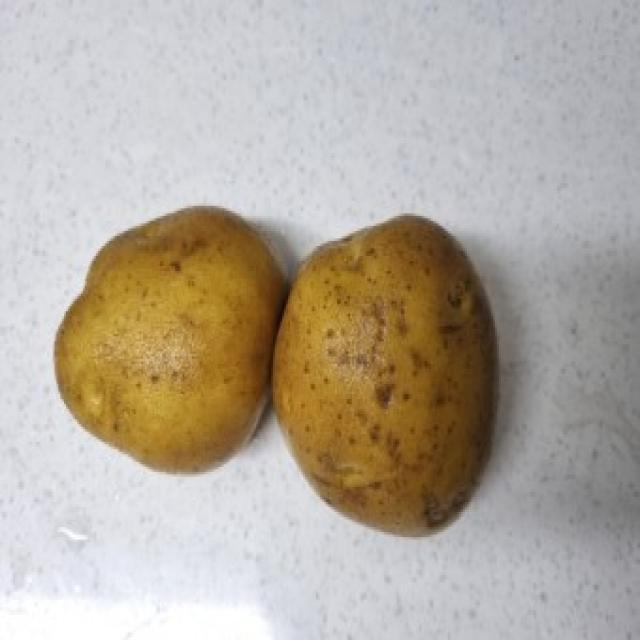potato: (269, 209, 505, 536), (50, 201, 298, 478)
